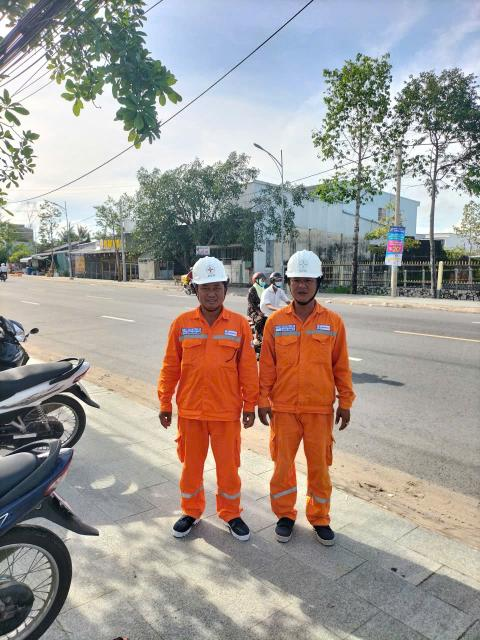helmet: (188, 245, 237, 292), (279, 247, 331, 285)
shoes: (268, 511, 302, 545), (221, 519, 265, 544), (169, 509, 207, 537), (306, 516, 340, 545)
